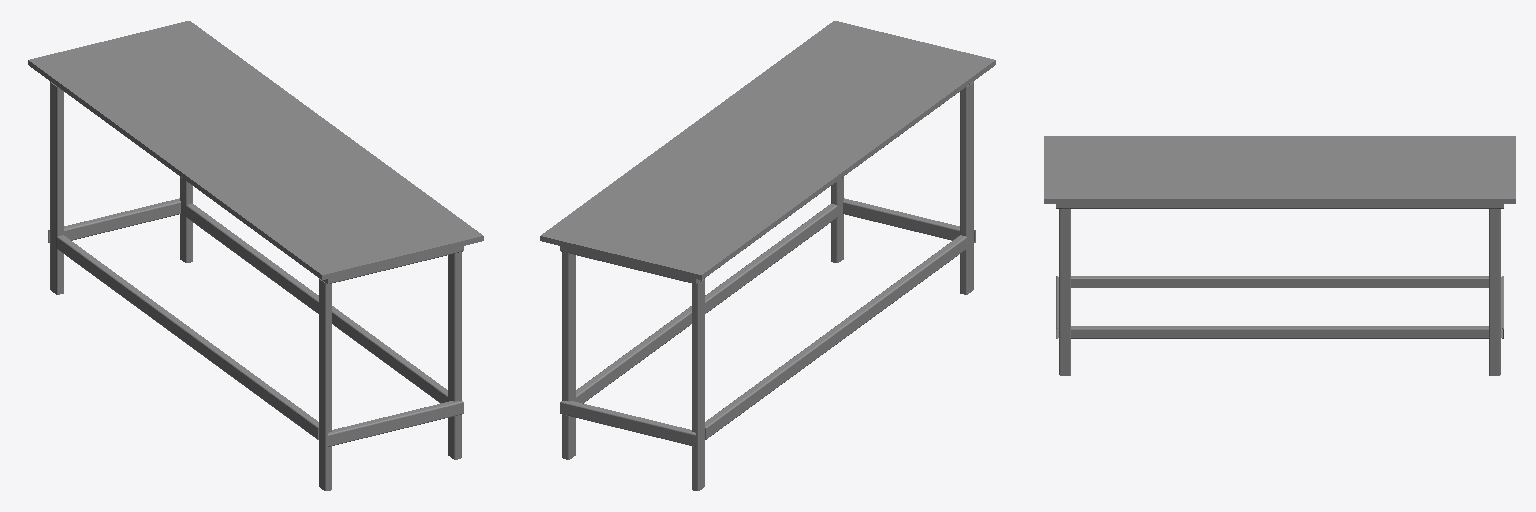
URDF robot description (mesa_simple):
<?xml version="1.0"?>
<robot name="mesa_simple">
        <link name="base">
        <visual>
            <!--origin xyz="0.001 0.00288 -0.013" rpy="0 0 0" /-->
            <origin xyz="0.0 0.0 0.0" rpy="0 0 0" />
            <geometry>
                <mesh filename="final_project_models/mesa_simple.dae" scale="1 1 1"/>
            </geometry>
        </visual>
        <collision>
            <geometry>
                <mesh filename="final_project_models/mesa_simple.dae" scale="1 1 1"/>
            </geometry>
        </collision>
	</link>
</robot>

--- Facts derived from the render (not from the file) ---
3 views of the same robot in one strip: view 1: azimuth 30°, elevation 25°; view 2: azimuth 150°, elevation 25°; view 3: azimuth 270°, elevation 25° (orthographic).
Robot: mesa_simple — 1 links, 0 joints (none); root link base; default pose: every joint at zero.
Links seen in each view (by area): view 1: base; view 2: base; view 3: base.
Link boxes in pixels (left/top/right/bottom): base: left=28, top=21, right=483, bottom=490; base: left=540, top=21, right=995, bottom=490; base: left=1044, top=136, right=1515, bottom=375.
Size in the robot's own frame: 650 by 2050 by 870 metres.
1 mesh visuals loaded from 1 distinct referenced files (1 Collada DAE).
